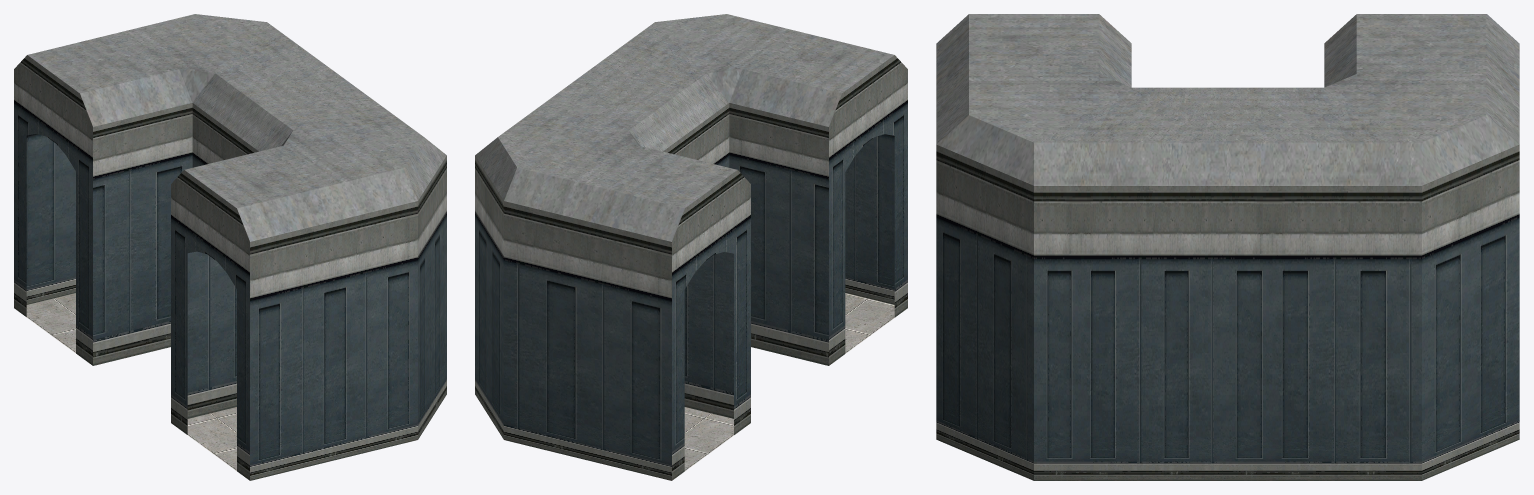
The model's file is thm_corl_imprv_slum_16x32_s02_r1_mesh_r1.fbx.
3 renders of one model, left to right at view 1: azimuth 30°, elevation 25°; view 2: azimuth 150°, elevation 25°; view 3: azimuth 270°, elevation 25°, orthographic. The views are drawn at different scales.
Visible parts, largest first — view 1: mesh_node; view 2: mesh_node; view 3: mesh_node.
Part boxes in pixels (left/top/right/bottom): mesh_node: left=14, top=14, right=446, bottom=480; mesh_node: left=475, top=14, right=907, bottom=480; mesh_node: left=936, top=14, right=1519, bottom=480.
Bounding box in the file's own units: 4.14 × 4.4 × 7.16.
